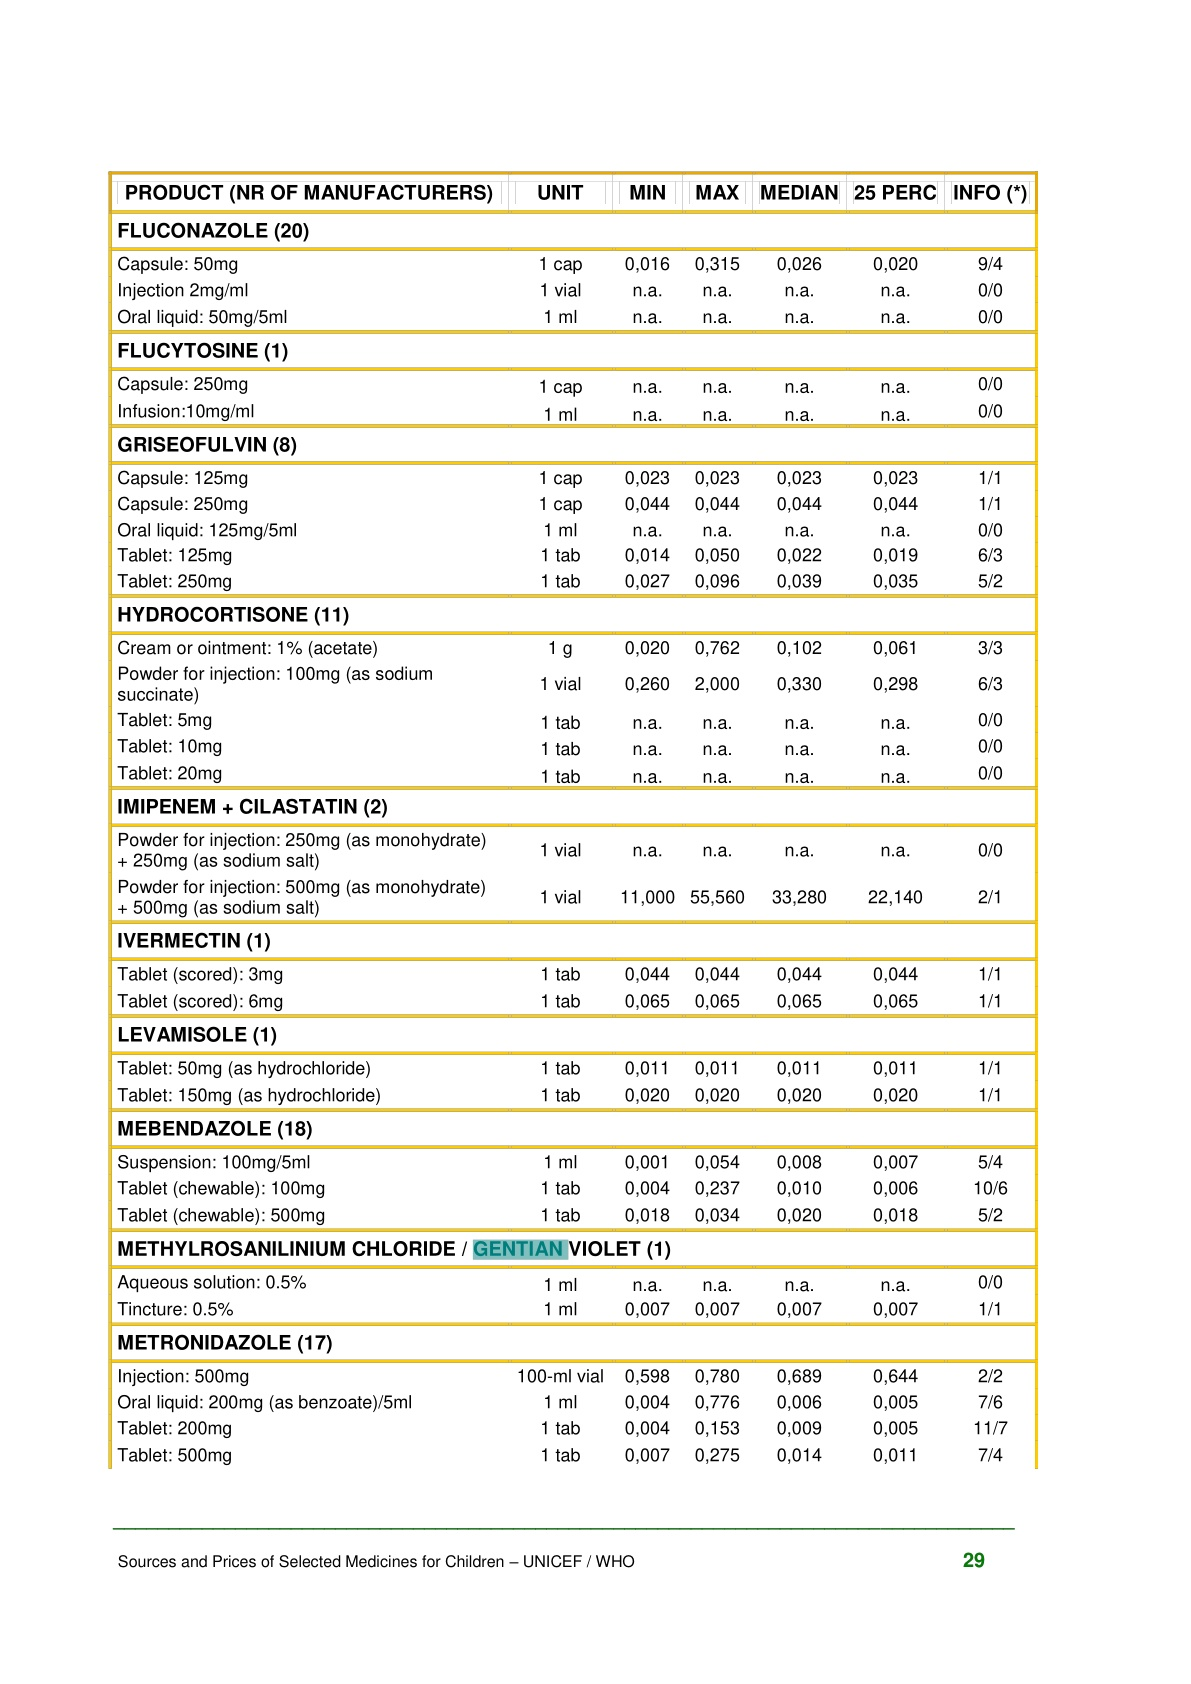partial_lined_merged_cells: (107, 171, 1039, 1471)
